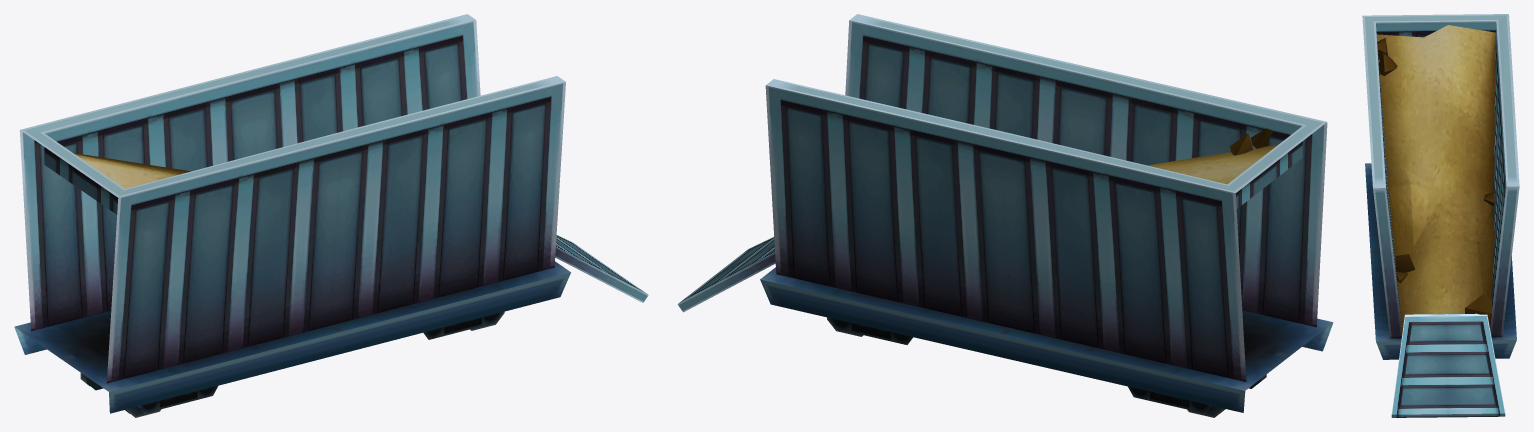
The model's file is obstacle3.fbx.
The picture shows the model from 3 angles, left to right: view 1: azimuth 30°, elevation 25°; view 2: azimuth 150°, elevation 25°; view 3: azimuth 270°, elevation 25°; orthographic projection. The views are drawn at different scales.
Visible parts, largest first — view 1: StaticMeshActor_271; view 2: StaticMeshActor_271; view 3: StaticMeshActor_271.
Boxes of the visible parts, x1,y1,x2,y2 form: StaticMeshActor_271: (14,14,648,417); StaticMeshActor_271: (677,14,1333,417); StaticMeshActor_271: (1362,14,1519,417).
Size of the model in its own units: 204 by 280 by 653.
1 material, 1 textured.
